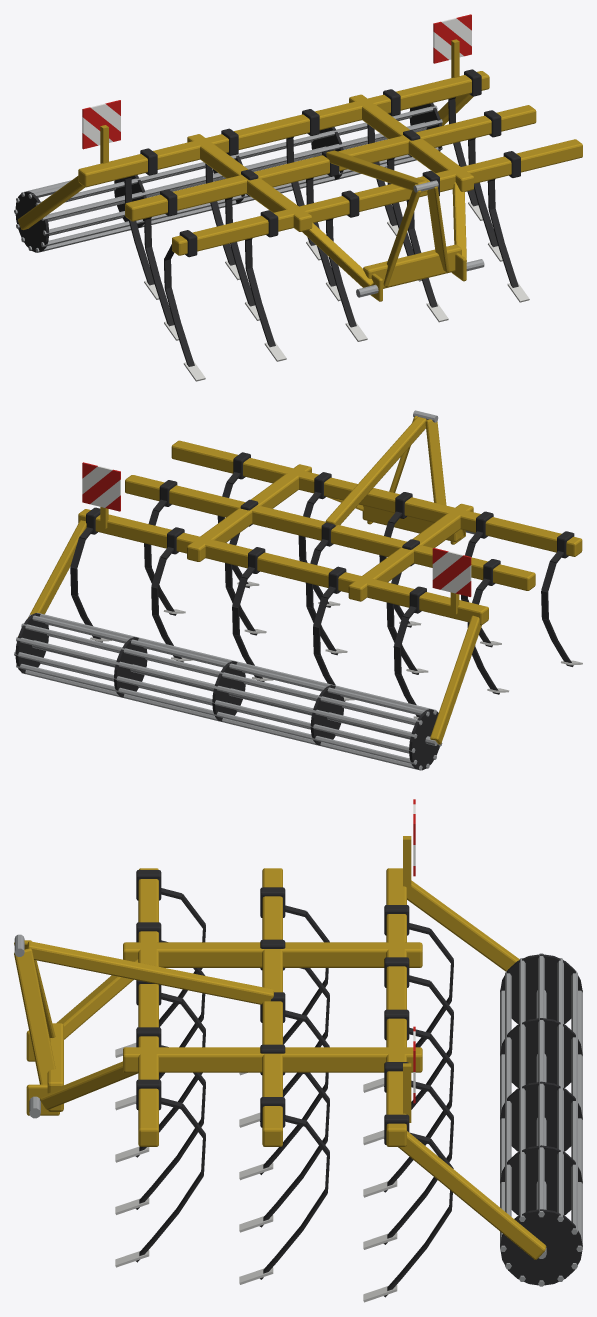
The model's file is cultivador.glb.
3 views of the same model, one above another, from view 1: azimuth 30°, elevation 25°; view 2: azimuth 150°, elevation 25°; view 3: azimuth 270°, elevation 25° (orthographic). The views are drawn at different scales.
Parts seen in each view (by area): view 1: bastidor, brazos, rodillo, senales; view 2: bastidor, rodillo, brazos, senales; view 3: bastidor, rodillo, brazos.
Boxes of the visible parts, box(x1,y1,x2,y2) form: bastidor: box(18, 39, 582, 301); brazos: box(124, 69, 529, 381); rodillo: box(14, 103, 442, 252); senales: box(82, 14, 471, 149); bastidor: box(18, 410, 582, 744); rodillo: box(14, 612, 442, 770); brazos: box(70, 452, 582, 719); senales: box(82, 462, 471, 596); bastidor: box(14, 836, 546, 1259); rodillo: box(500, 953, 582, 1286); brazos: box(115, 870, 453, 1302).
Bounding box in the file's own units: 3.12 × 1.35 × 2.75.
